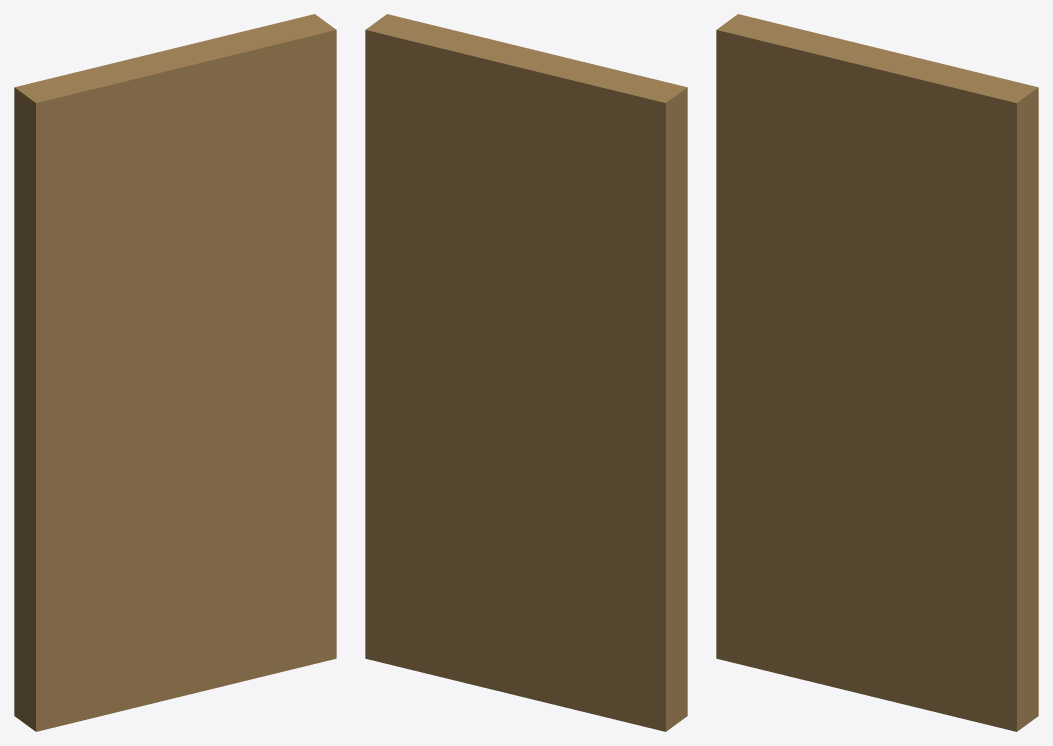
Rendered from door.glb.
The picture shows the model from 3 angles, left to right: view 1: azimuth 30°, elevation 25°; view 2: azimuth 150°, elevation 25°; view 3: azimuth 330°, elevation 25°; orthographic projection.
Visible parts, largest first — view 1: VoxelVisual__leaf_left, VoxelVisual__leaf_right; view 2: VoxelVisual__leaf_left, VoxelVisual__leaf_right; view 3: VoxelVisual__leaf_right, VoxelVisual__leaf_left.
Boxes of the visible parts, <box> form: VoxelVisual__leaf_left: <box>14,50,186,731</box>; VoxelVisual__leaf_right: <box>165,14,336,695</box>; VoxelVisual__leaf_left: <box>515,50,687,731</box>; VoxelVisual__leaf_right: <box>365,14,536,695</box>; VoxelVisual__leaf_right: <box>866,50,1038,731</box>; VoxelVisual__leaf_left: <box>716,14,887,695</box>.
Size of what is drawn, in the model's own units: 2 by 4 by 0.25.
